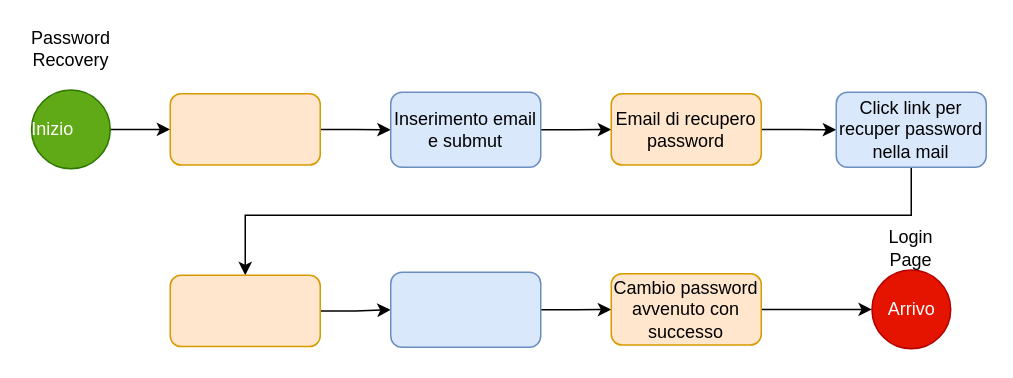
The diagram is 1013 pixels wide and 378 high, and some of its shapes have lost their labels. The shapes that lost their labels are listed below. From the top down, each one's box as (x1, y1, x2, y2) in pixels, then its label:
(169, 92, 320, 165): Password Recovery Page
(169, 274, 320, 346): Password Change Page
(389, 271, 541, 347): Inserimento password e copia password e submut
